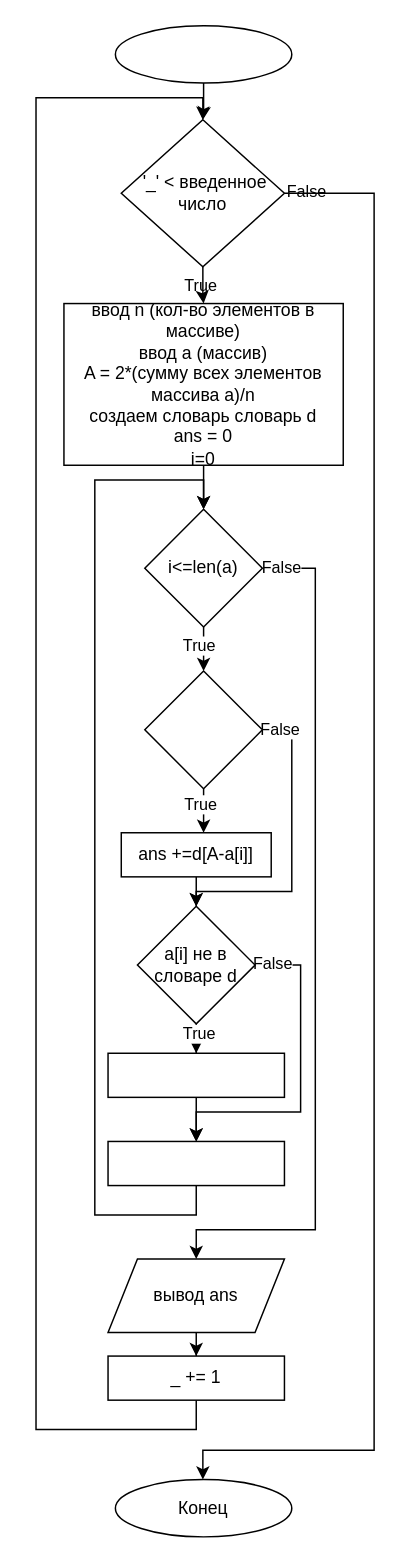
Some shapes in this 412 by 1563 pixel diagram are drawn without their labels. The box of each missing label's shape, as (x1, y1, x2, y2) in pixels:
A-a[i] в словаре d: (143, 670, 262, 789)
d[a[i]]=0: (107, 1052, 284, 1097)
d[a[i]]=0 i+=1: (107, 1140, 284, 1186)
Начало: (114, 24, 292, 83)
